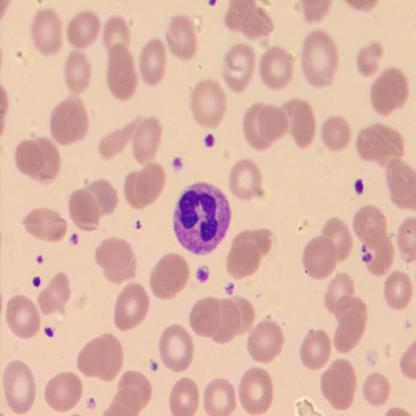Segmented neutrophil: (172, 179, 233, 257)
